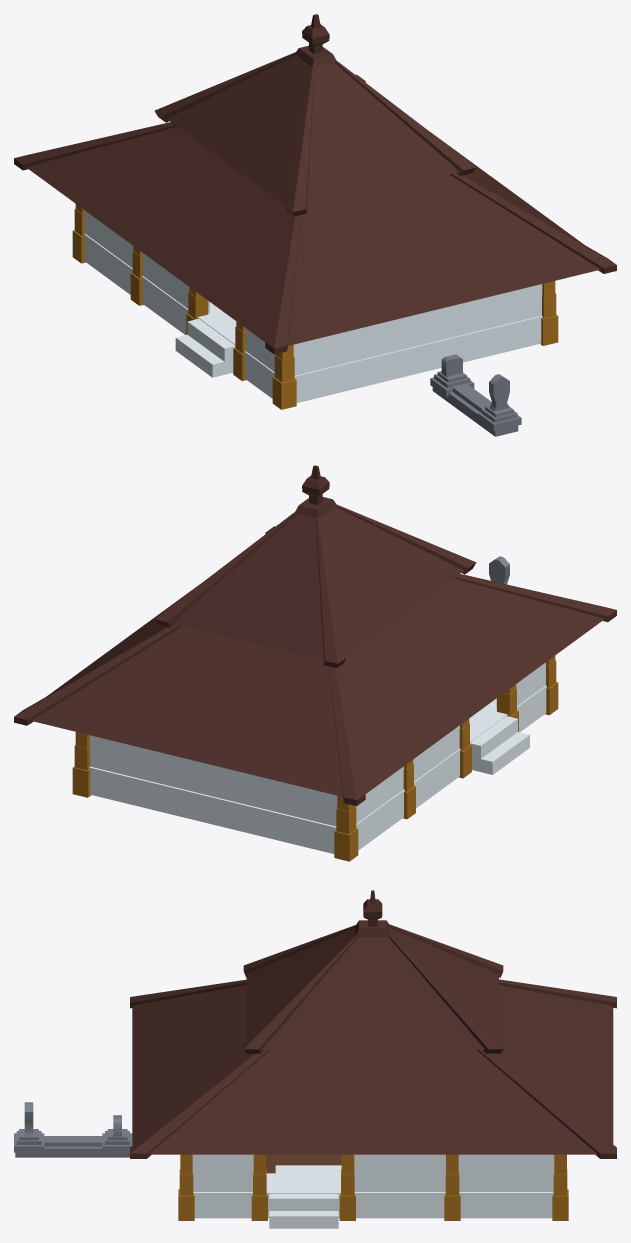
Rendered from Makam_inti.fbx.
3 views of the same model, one above another, from view 1: azimuth 30°, elevation 25°; view 2: azimuth 150°, elevation 25°; view 3: azimuth 270°, elevation 25° (orthographic). The views are drawn at different scales.
Visible parts, largest first — view 1: Cube.338, Cube.335, Cube.342, Cube.339, Cube.306, Cube.340; view 2: Cube.338, Cube.335, Cube.339, Cube.306, Cube.340, Cube.341; view 3: Cube.338, Cube.335, Cube.342, Cube.306, Cube.339, Cube.340, Cube.341, Cube.337.
Boxes of the visible parts, x1,y1,x2,y2 form: Cube.338: [14, 14, 616, 354]; Cube.335: [84, 211, 542, 402]; Cube.342: [430, 354, 521, 436]; Cube.339: [72, 204, 558, 409]; Cube.306: [175, 319, 235, 377]; Cube.340: [130, 246, 246, 381]; Cube.338: [14, 465, 616, 806]; Cube.335: [89, 662, 546, 853]; Cube.339: [72, 656, 558, 861]; Cube.306: [470, 716, 529, 774]; Cube.340: [403, 684, 518, 819]; Cube.341: [459, 718, 471, 778]; Cube.338: [130, 890, 616, 1158]; Cube.335: [192, 1154, 554, 1218]; Cube.342: [14, 1102, 132, 1157]; Cube.306: [269, 1193, 338, 1228]; Cube.339: [178, 1154, 568, 1220]; Cube.340: [251, 1154, 460, 1220]; Cube.341: [339, 1154, 355, 1220]; Cube.337: [266, 1154, 341, 1173].
Bounding box in the file's own units: 1333 × 1059 × 2170.
